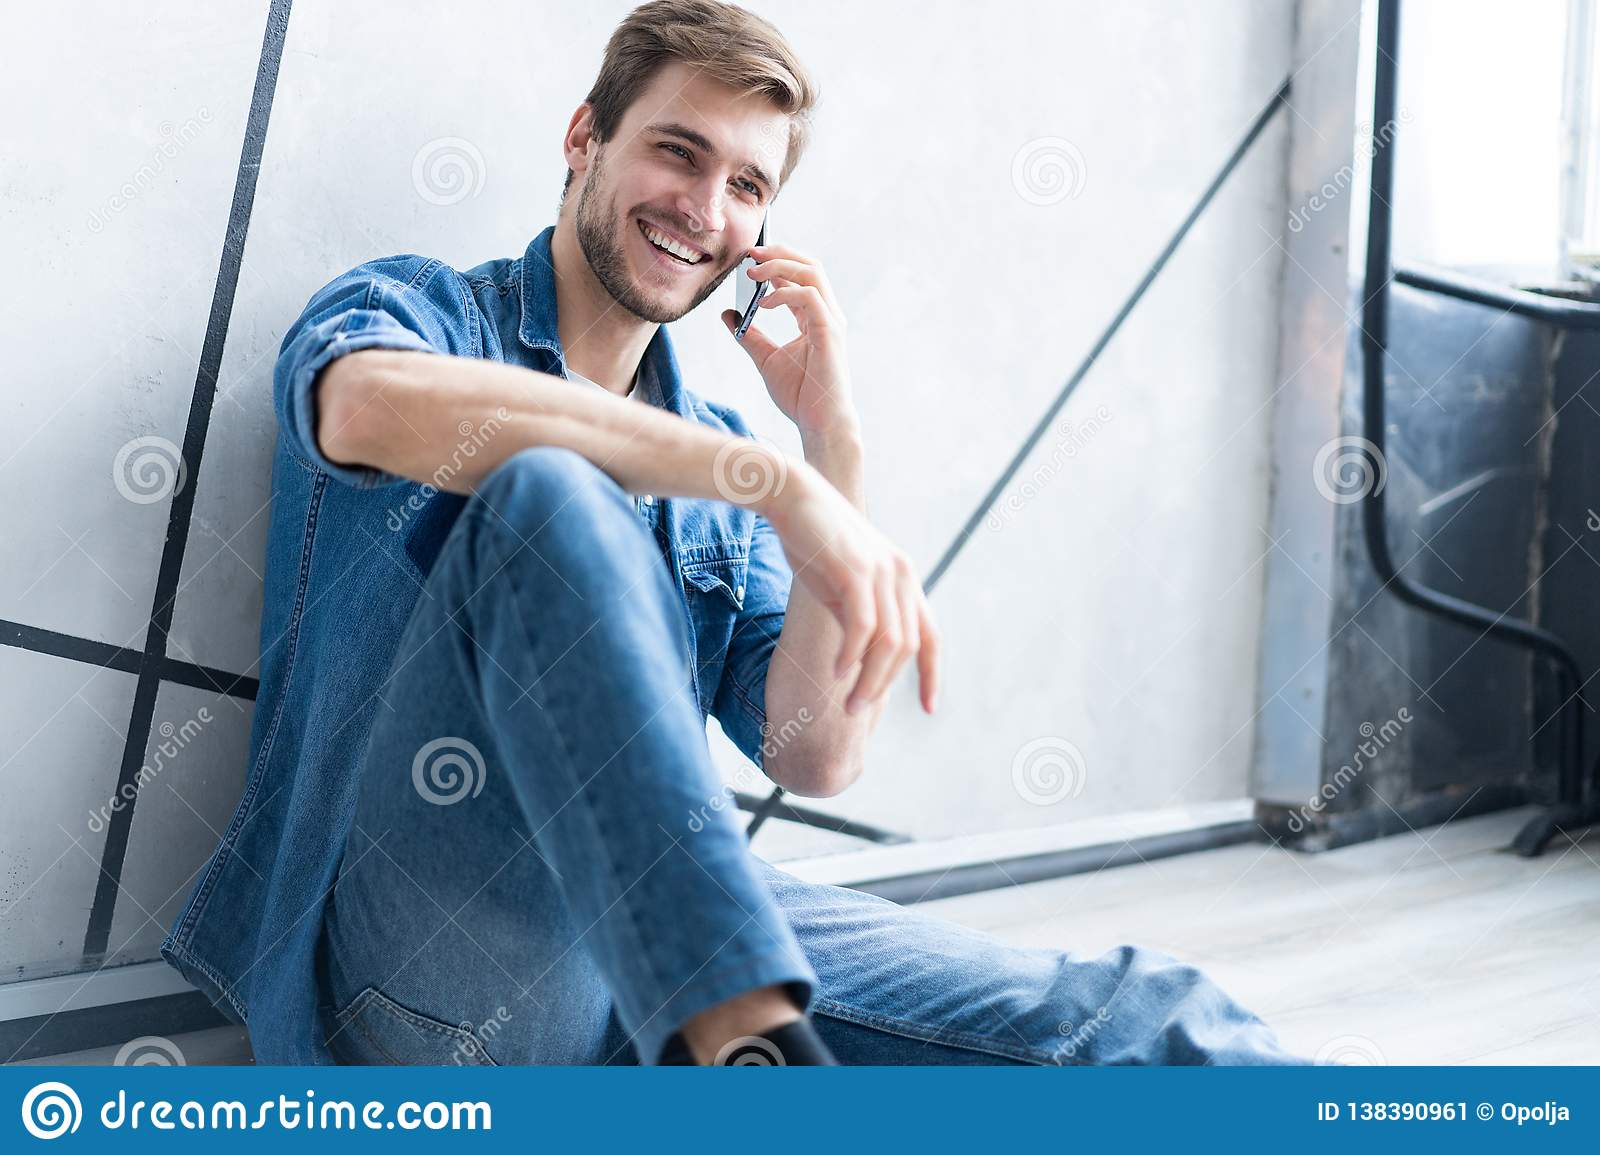phone: (730, 202, 773, 344)
talk: (607, 108, 853, 453)
